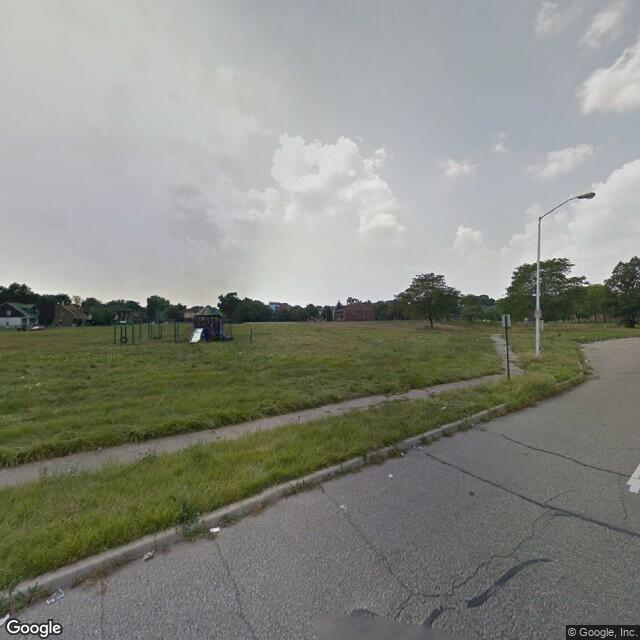litter: (44, 592, 68, 606), (1, 606, 15, 627), (140, 543, 157, 558), (395, 450, 410, 460), (207, 524, 222, 532)
